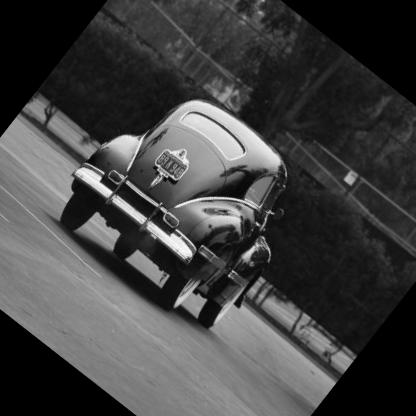car: (22, 43, 355, 378)
